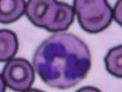N: (32, 33, 92, 88)
